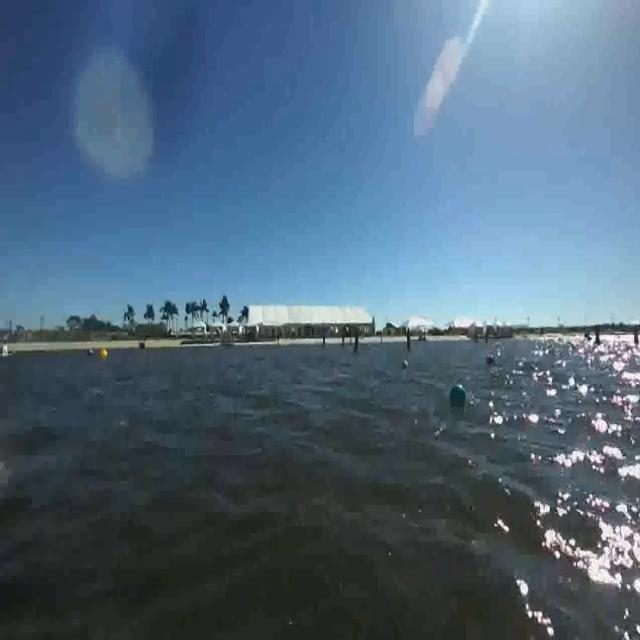green-buoy: (448, 375, 470, 423)
